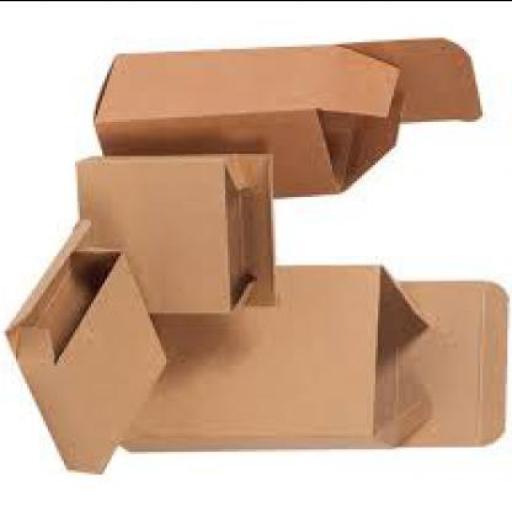cardboard: (116, 256, 510, 449), (98, 34, 484, 194), (3, 214, 171, 472), (75, 146, 279, 312)
